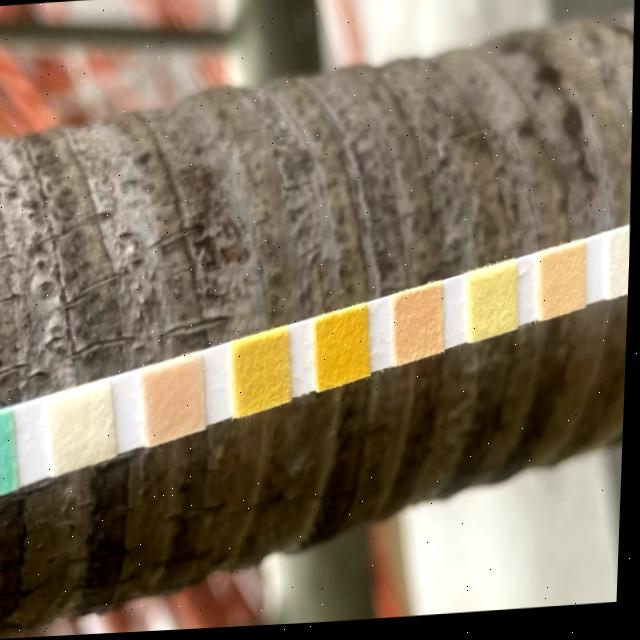Bilirubin: (52, 393, 115, 466)
Blood: (317, 315, 368, 384)
Glucose: (0, 418, 18, 493)
Ketone: (146, 366, 208, 437)
Nitrite: (608, 241, 632, 296)
Protein: (472, 279, 520, 336)
SpGravity: (237, 338, 294, 410)
Urobilinogen: (539, 258, 588, 315)
pH: (395, 299, 445, 361)
